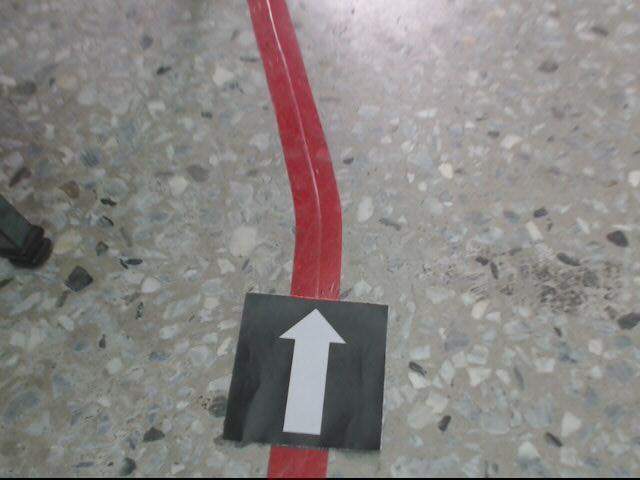straight: (224, 292, 389, 449)
